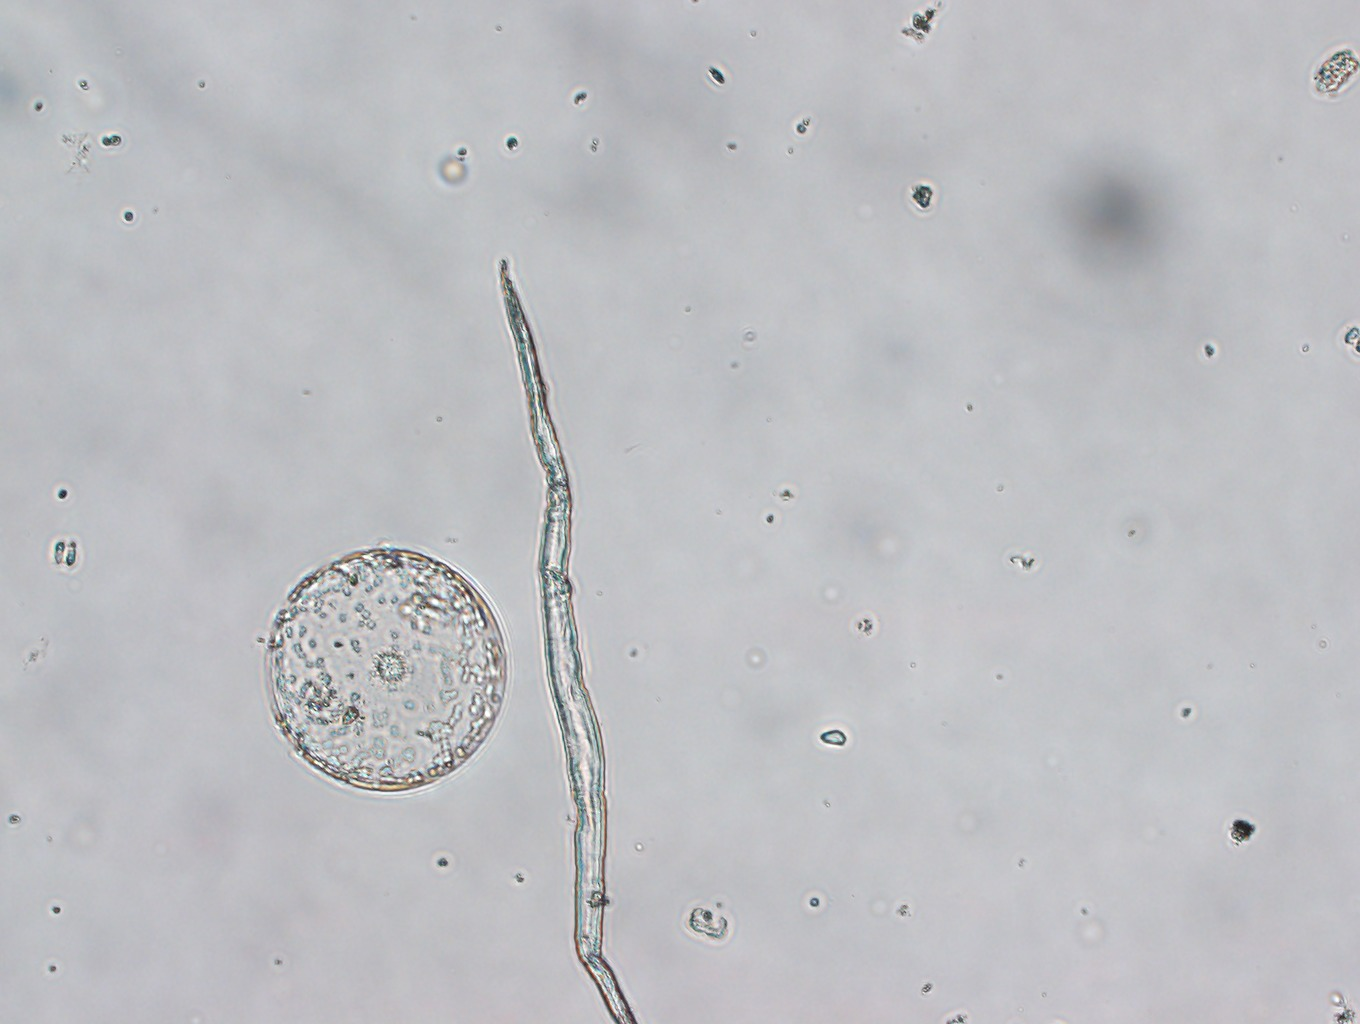chaetoceros: (257, 537, 512, 797)
